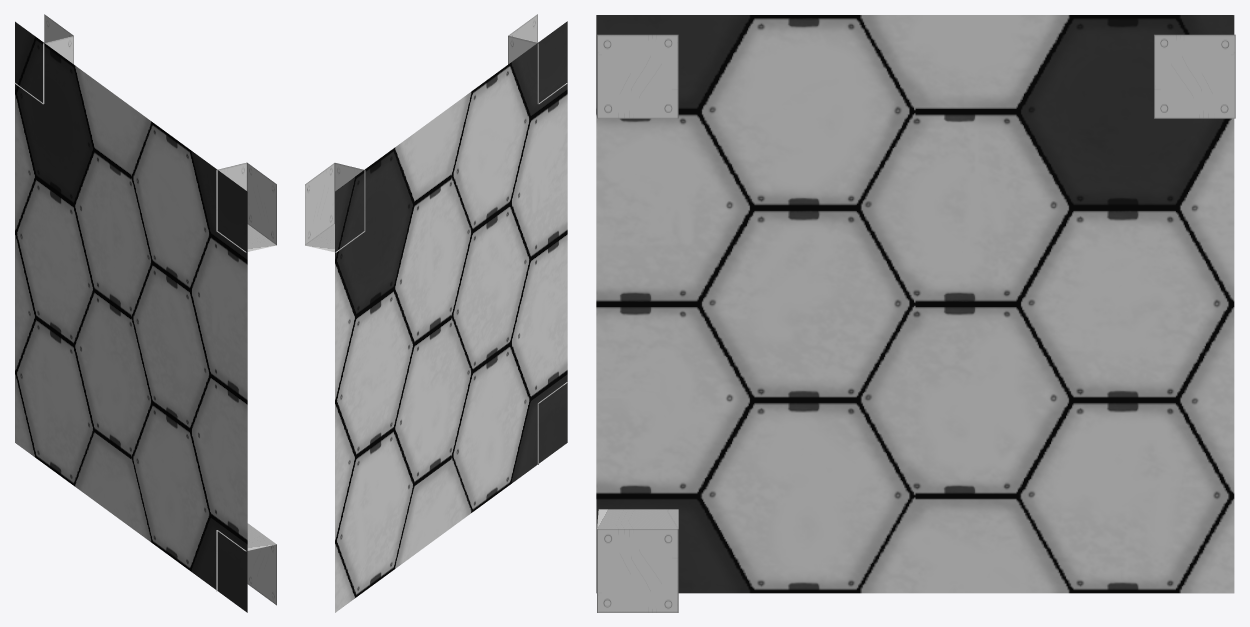
The model's file is Wall_CornerL4.fbx.
The picture shows the model from 3 angles, left to right: view 1: azimuth 30°, elevation 25°; view 2: azimuth 150°, elevation 25°; view 3: azimuth 270°, elevation 25°; orthographic projection. The views are drawn at different scales.
Parts seen in each view (by area): view 1: pPlane118; view 2: pPlane118; view 3: pPlane118.
Part boxes in pixels (x1=…): pPlane118: x1=14, y1=14, x2=276, y2=612; pPlane118: x1=305, y1=14, x2=567, y2=612; pPlane118: x1=596, y1=15, x2=1235, y2=612.
Bounding box in the file's own units: 0.1534 × 2 × 2.
